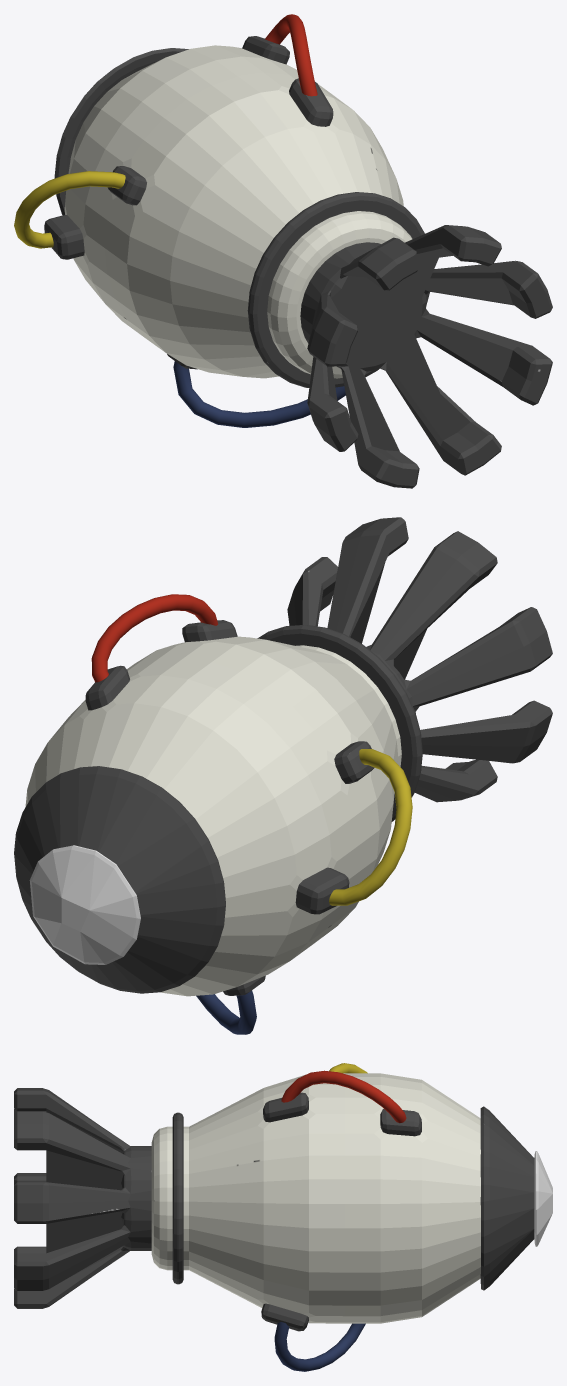
File: MisilNuclear.fbx
3 renders of one model, top to bottom at view 1: azimuth 30°, elevation 25°; view 2: azimuth 150°, elevation 25°; view 3: azimuth 270°, elevation 25°, orthographic. The views are drawn at different scales.
Visible parts, largest first — view 1: Cylinder; view 2: Cylinder; view 3: Cylinder.
Boxes of the visible parts, box(x1,y1,x2,y2) form: Cylinder: box(14, 14, 552, 488); Cylinder: box(14, 517, 552, 1034); Cylinder: box(14, 1063, 552, 1371).
Size of the model in its own units: 250 by 276 by 430.
2 materials, 1 textured.
